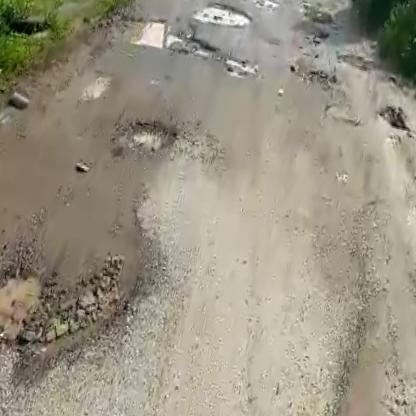pothole: (0, 235, 141, 390), (125, 9, 225, 65), (112, 107, 185, 164), (192, 0, 255, 31), (219, 56, 255, 81)
